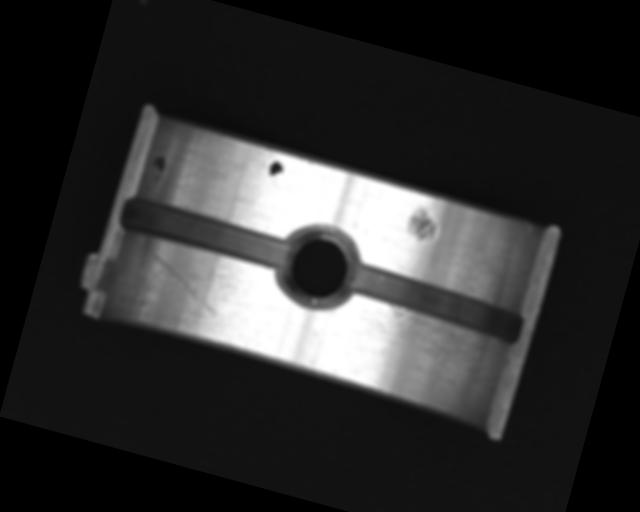blot: (147, 152, 169, 185), (265, 158, 285, 182)
bruise: (404, 205, 441, 244)
gap: (341, 260, 529, 347), (118, 194, 295, 274)
hole: (269, 216, 363, 318)
nick: (138, 251, 229, 321)
scratch: (325, 289, 505, 409)
